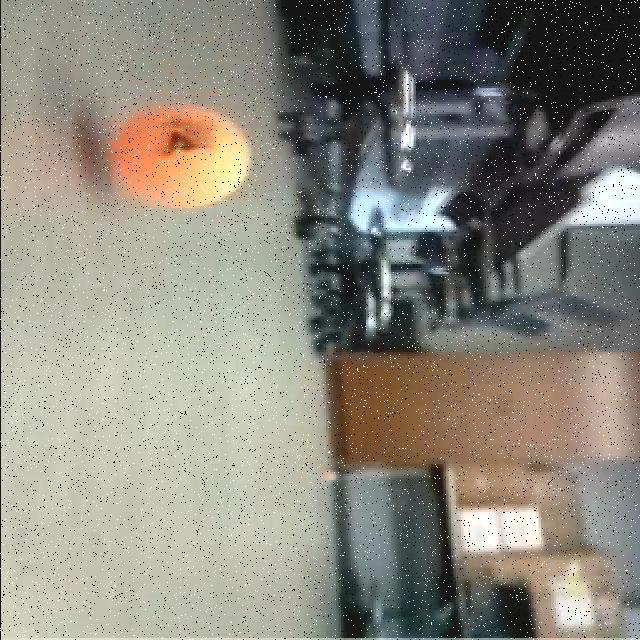ping-pong-ball: (104, 98, 257, 212)
